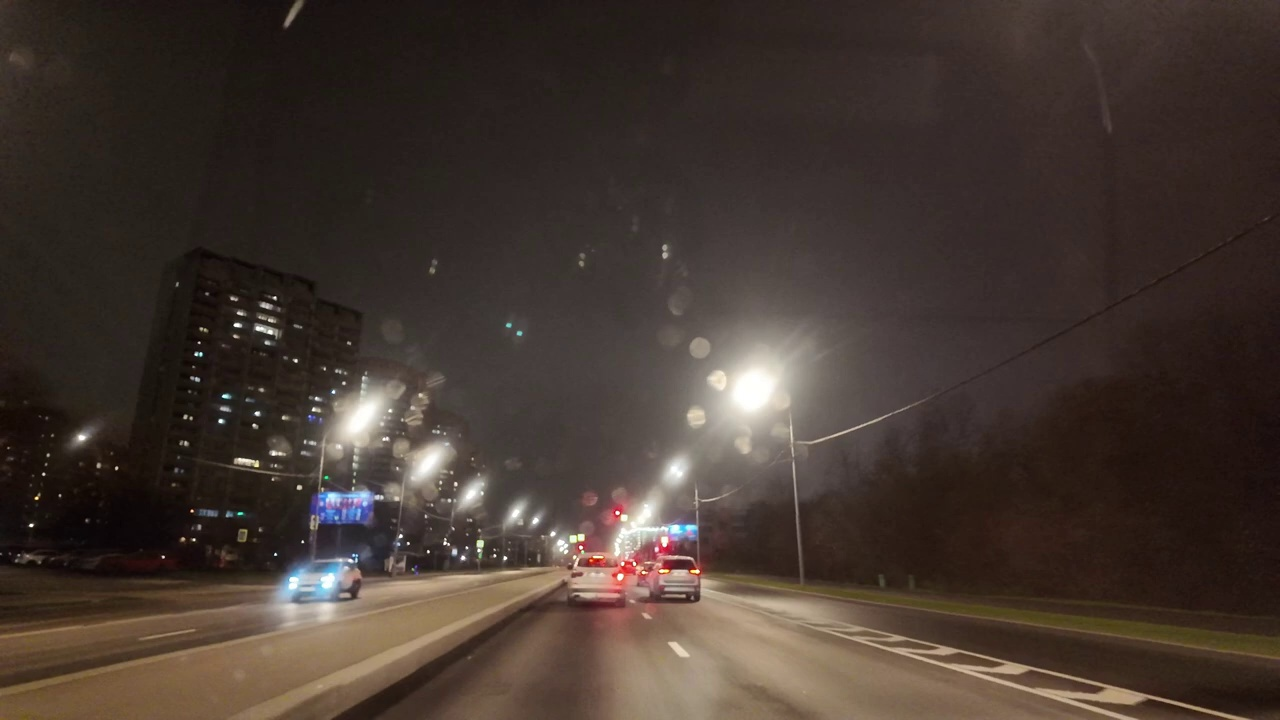acesa: (722, 363, 781, 418), (340, 390, 386, 440), (407, 443, 448, 488), (662, 455, 691, 488)
